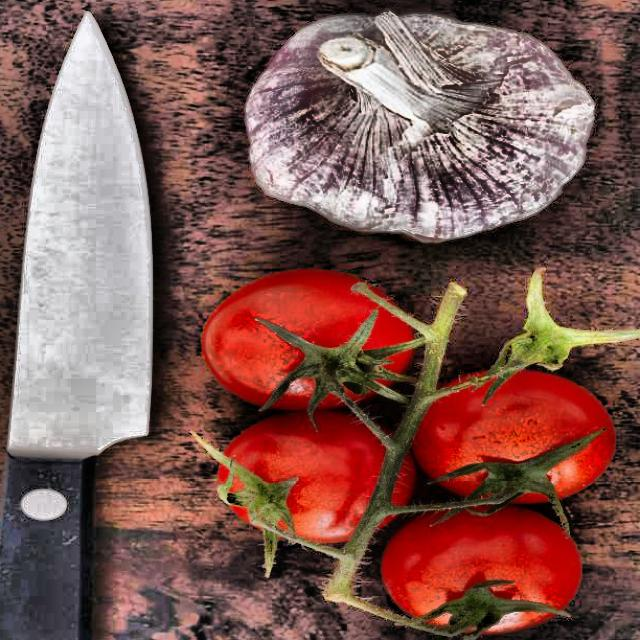knife: (0, 6, 161, 640)
